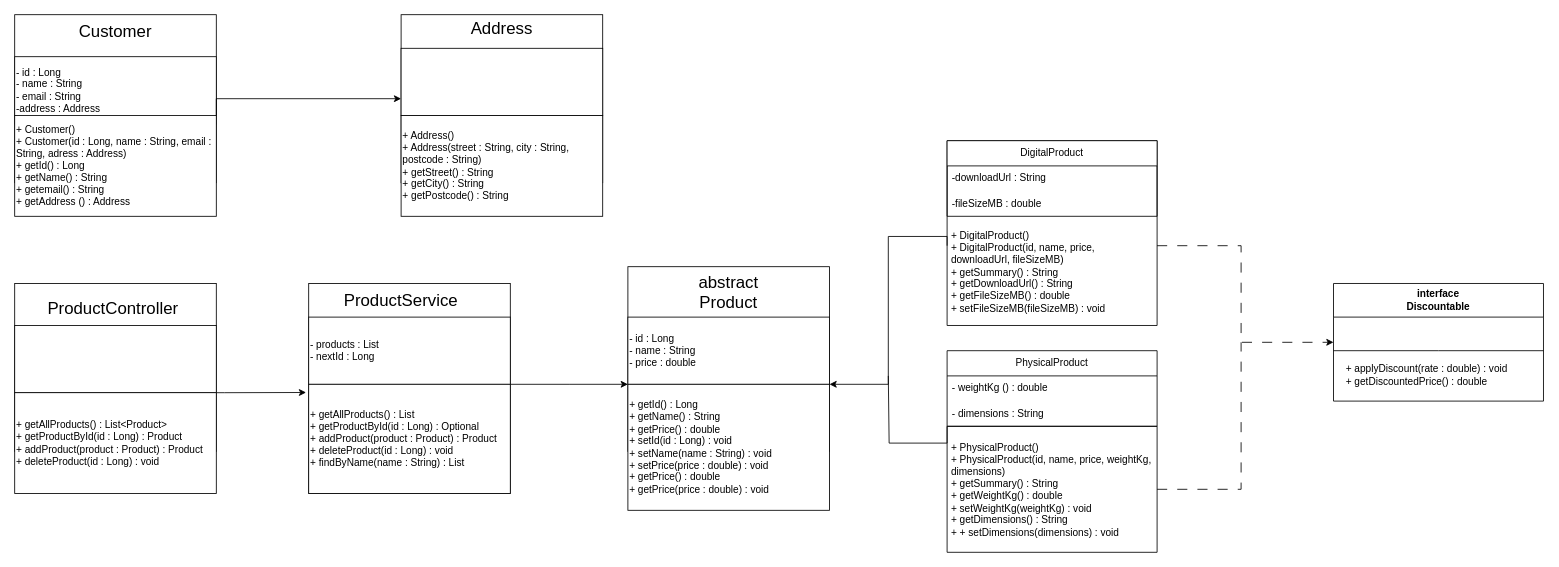
Image size: 1559x567. Some labels were removed from this diagram. Each missing label, with the centre of its shape:
"- productService : ProductService" goes at point 115,359.
"- street : String - city : String - postcode : String" goes at point 501,81.
